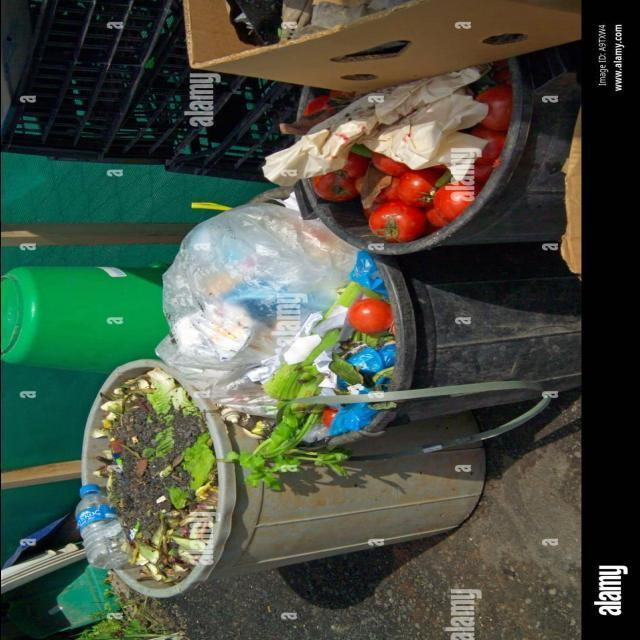Garbage: (75, 188, 533, 585), (262, 61, 510, 242)
Plastic_Bag: (155, 202, 356, 415), (348, 251, 385, 300), (330, 402, 377, 435), (345, 344, 394, 375), (371, 378, 388, 390)
Plastic_bottle: (75, 484, 128, 569)
